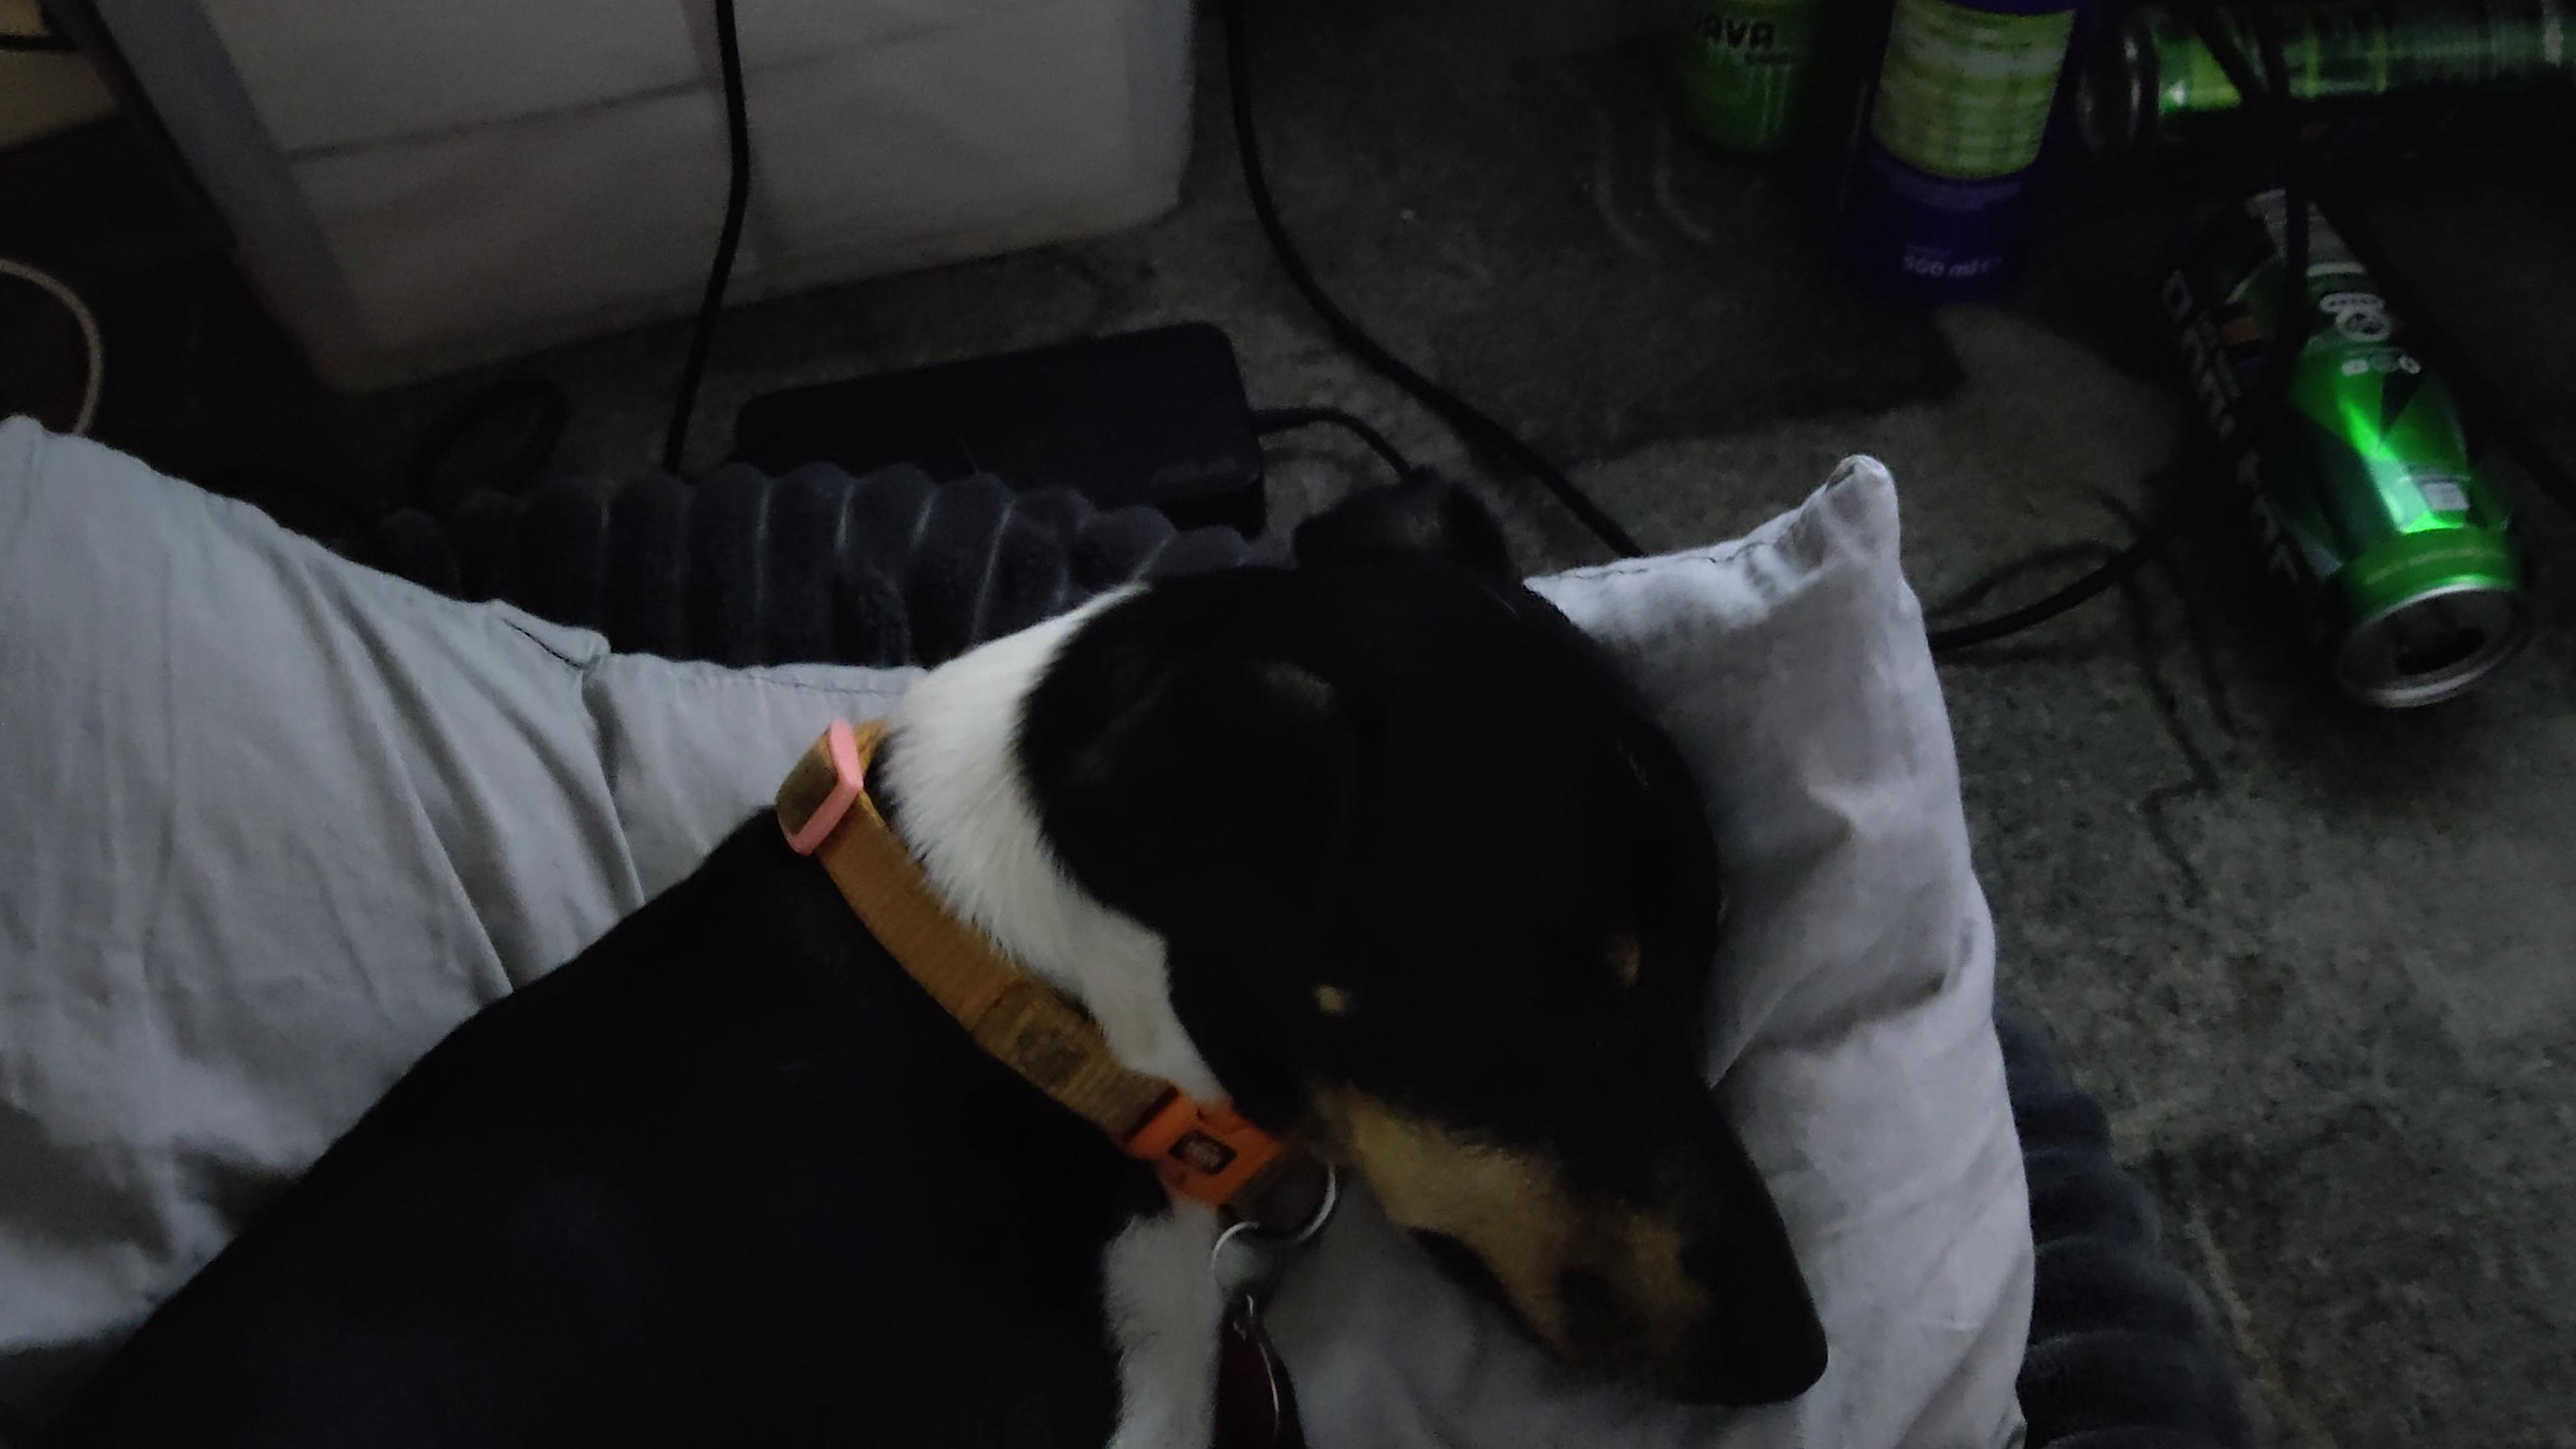Dog: (0, 449, 1856, 1449)
